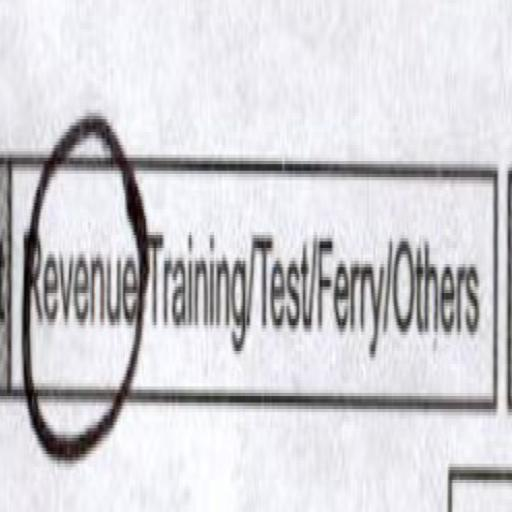check: (17, 94, 150, 512)
